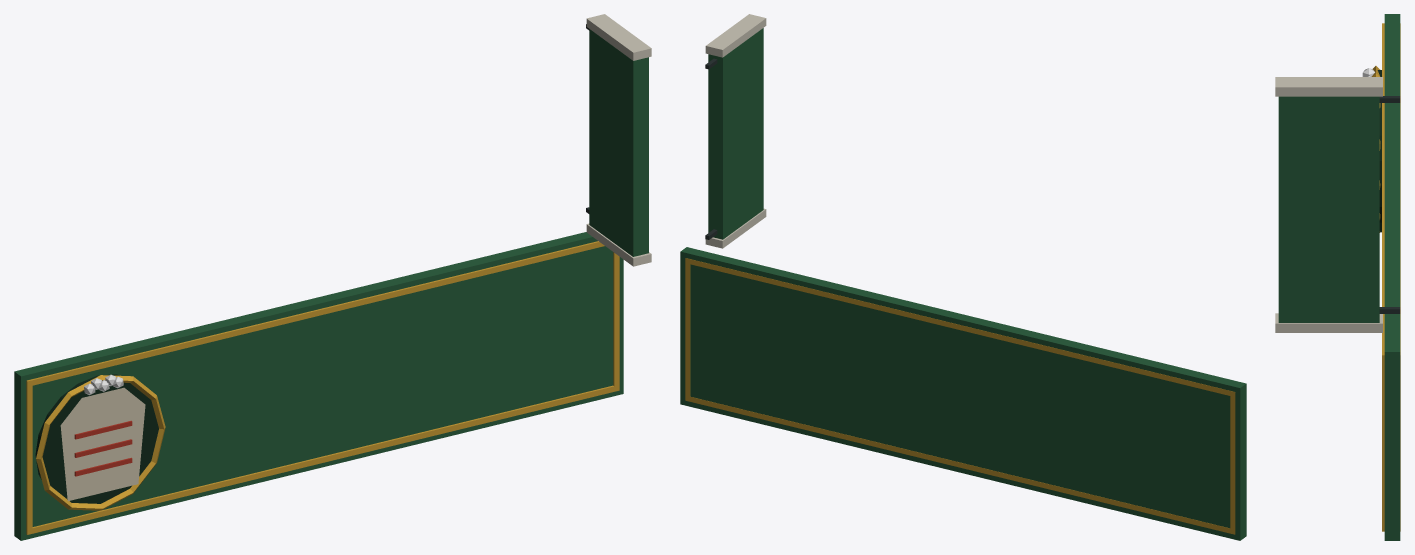
File: bang_tap_hoa_thu_ha_48.glb
The picture shows the model from 3 angles, left to right: view 1: azimuth 30°, elevation 25°; view 2: azimuth 150°, elevation 25°; view 3: azimuth 270°, elevation 25°; orthographic projection. The views are drawn at different scales.
Parts seen in each view (by area): view 1: bang_tap_hoa_thu_ha_48; view 2: bang_tap_hoa_thu_ha_48; view 3: bang_tap_hoa_thu_ha_48.
Part boxes in pixels (x1,y1,x2,y2): bang_tap_hoa_thu_ha_48: (14, 14, 651, 540); bang_tap_hoa_thu_ha_48: (680, 14, 1246, 540); bang_tap_hoa_thu_ha_48: (1275, 14, 1400, 540).
Bounding box in the file's own units: 4.6 × 2.81 × 0.722.
